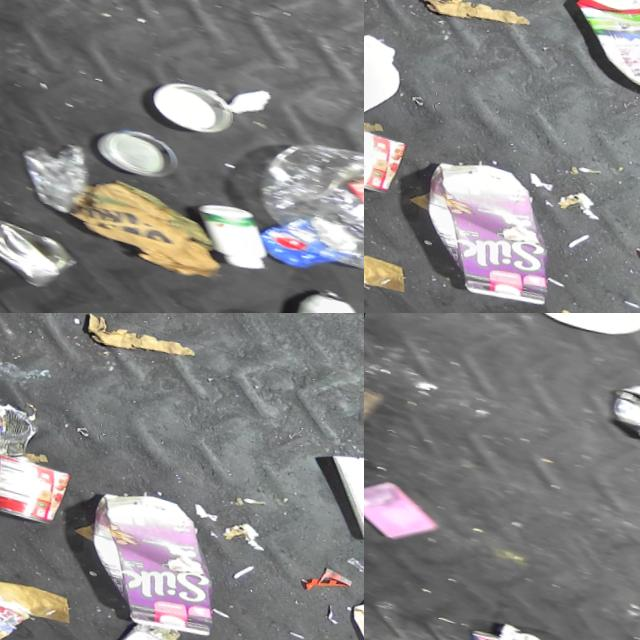can: (145, 52, 285, 150), (247, 189, 364, 283), (0, 207, 79, 295), (0, 442, 73, 527), (364, 104, 420, 207), (0, 385, 44, 463), (605, 368, 640, 453), (0, 567, 36, 640)
milk_jug: (364, 0, 411, 135)
non_white_jug: (70, 473, 238, 640)
plastic_bottle: (241, 111, 364, 301)
